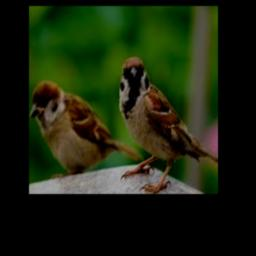Sparrow: (120, 57, 218, 193), (30, 81, 143, 178)
